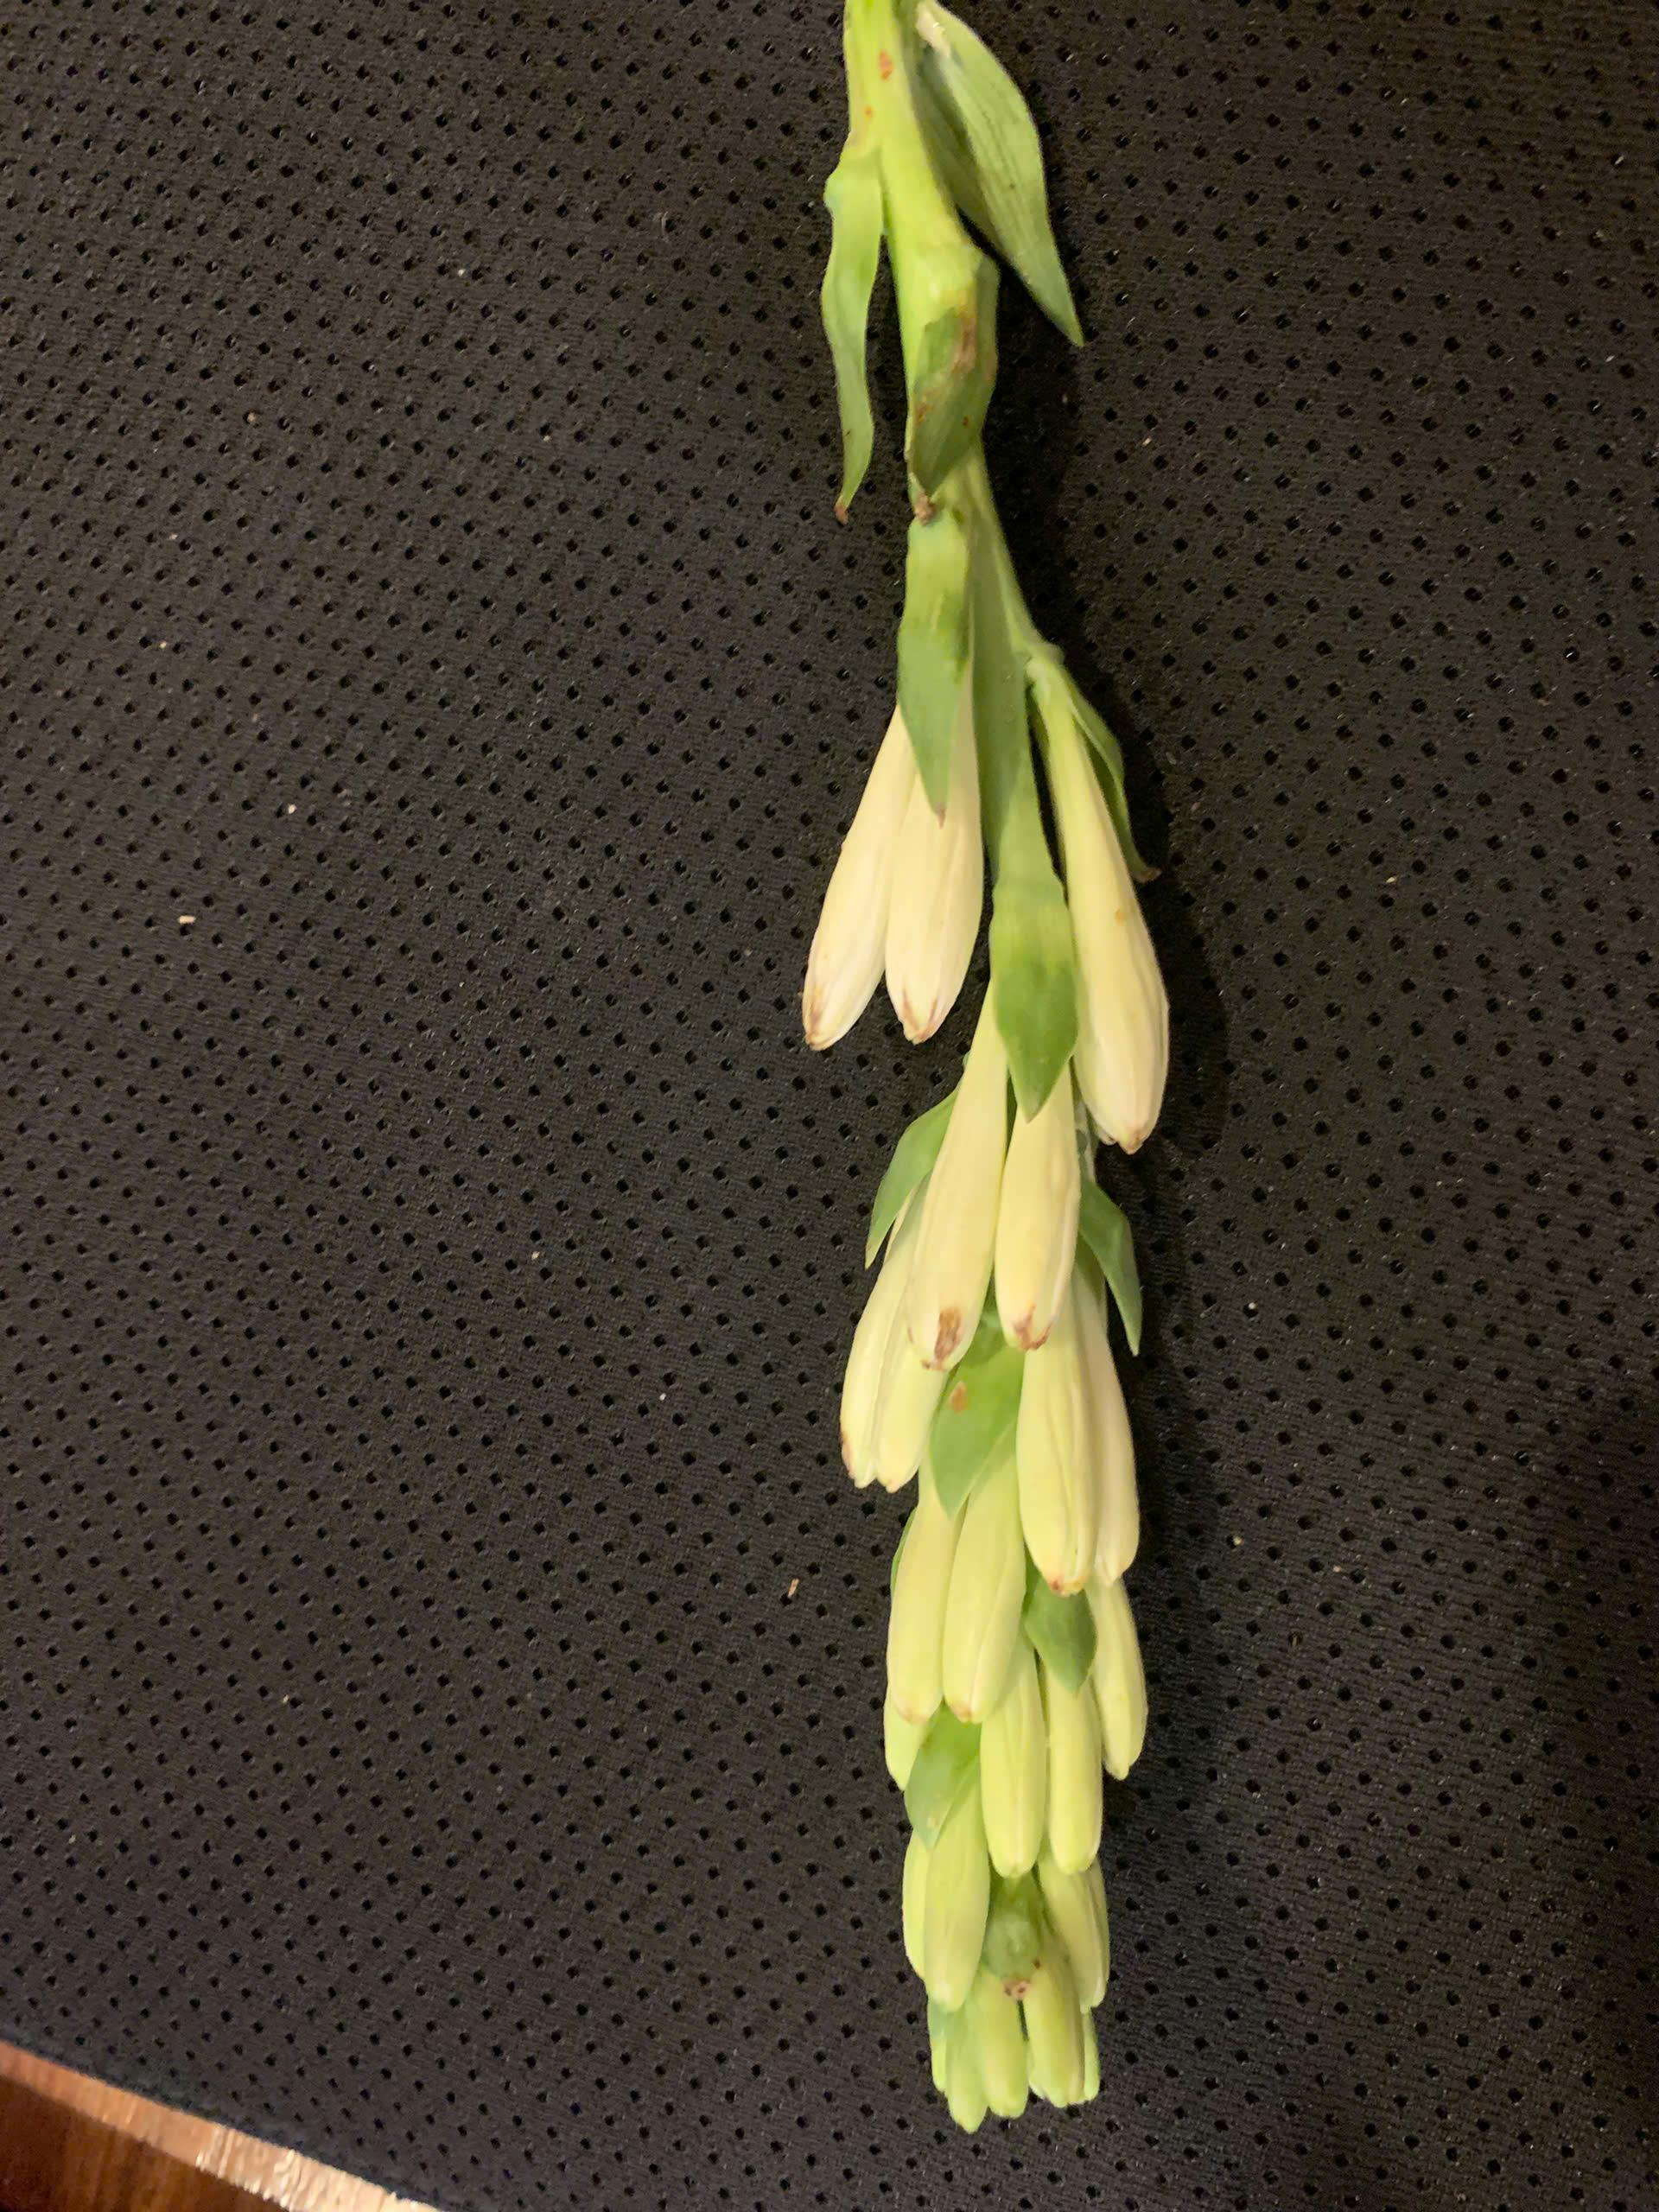Huu co: (795, 0, 1182, 2120)
